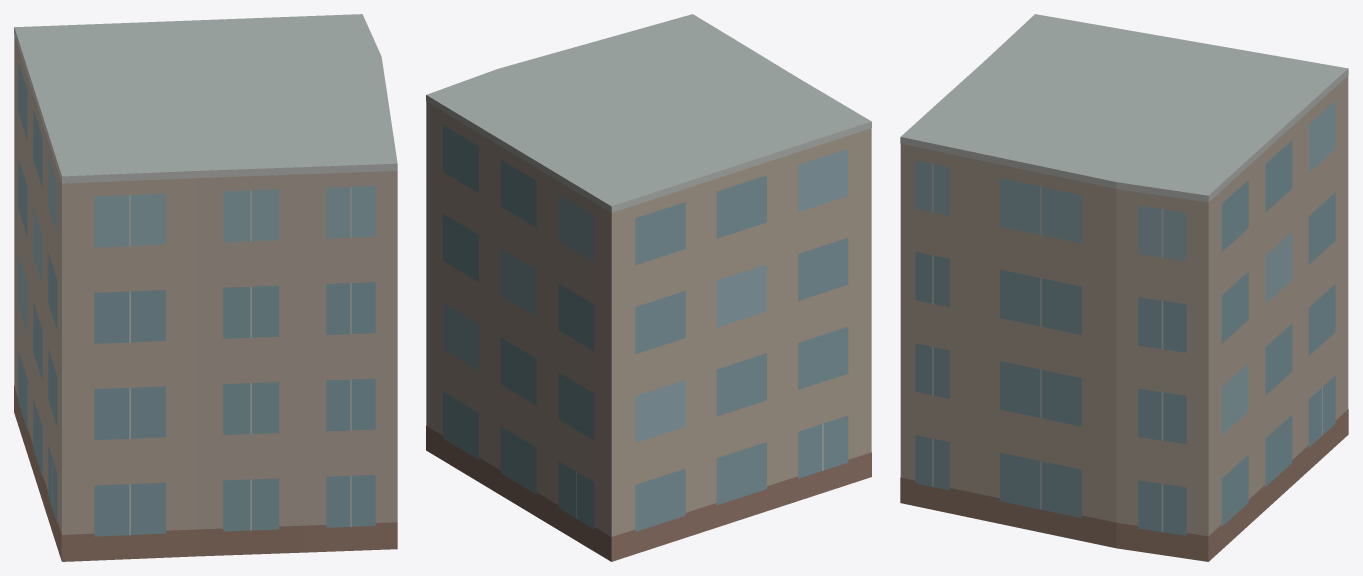
Rendered from survey-upis-32733555.glb.
The picture shows the model from 3 angles, left to right: view 1: azimuth 30°, elevation 25°; view 2: azimuth 150°, elevation 25°; view 3: azimuth 270°, elevation 25°; orthographic projection. The views are drawn at different scales.
Parts seen in each view (by area): view 1: survey-upis-32733555.tmp; view 2: survey-upis-32733555.tmp; view 3: survey-upis-32733555.tmp.
Part boxes in pixels (x1,y1,x2,y2): survey-upis-32733555.tmp: (14, 14, 397, 561); survey-upis-32733555.tmp: (426, 14, 871, 561); survey-upis-32733555.tmp: (900, 14, 1348, 561).
Size of the model in its own units: 13.95 by 13.1 by 14.53.
